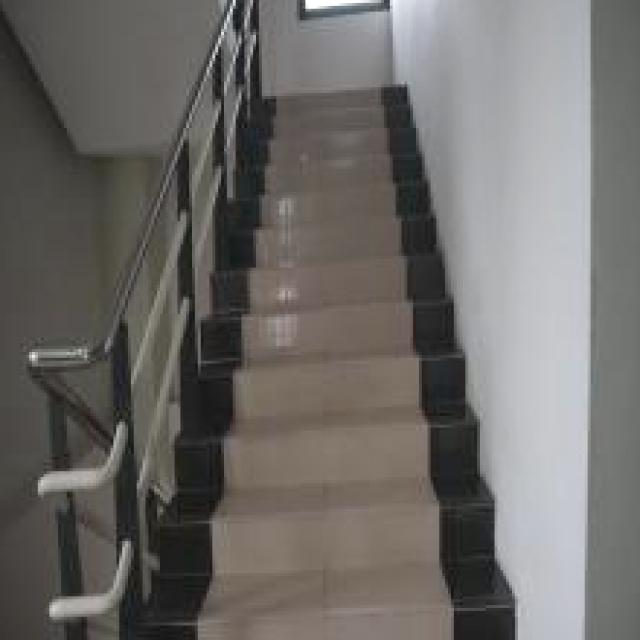upstair: (182, 123, 473, 640)
